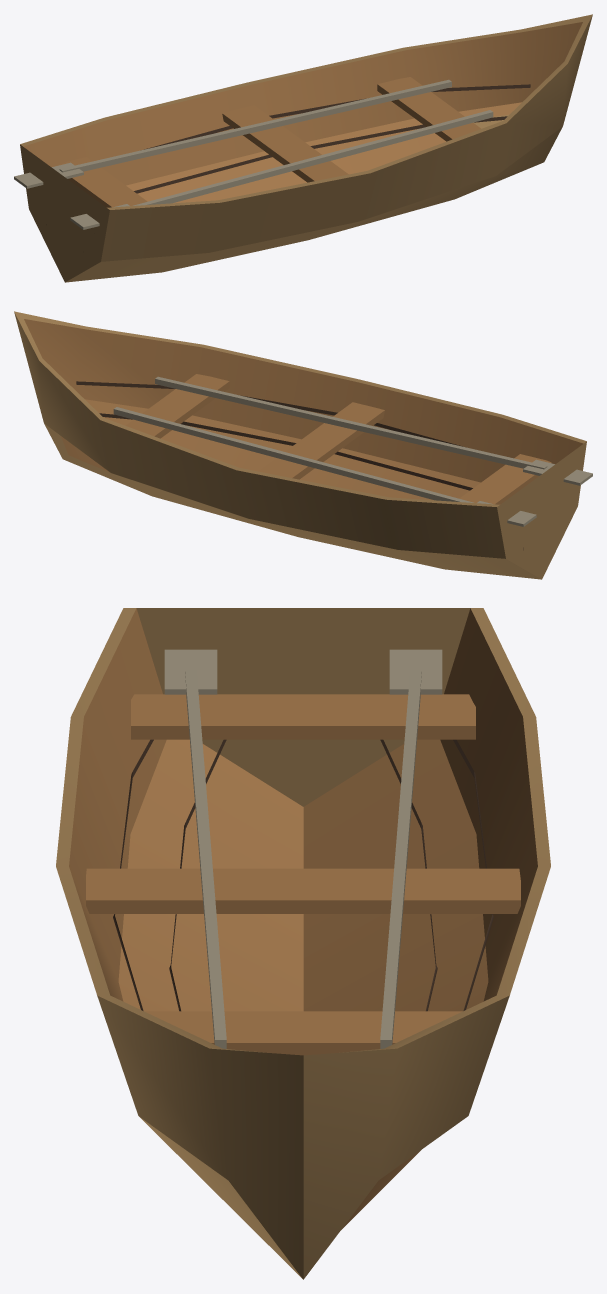
File: Rowboat.fbx
3 views of the same model, one above another, from view 1: azimuth 30°, elevation 25°; view 2: azimuth 150°, elevation 25°; view 3: azimuth 270°, elevation 25° (orthographic). The views are drawn at different scales.
Visible parts, largest first — view 1: Rowboat; view 2: Rowboat; view 3: Rowboat.
Boxes of the visible parts, bbox=[...] form: Rowboat: bbox=[14, 14, 592, 282]; Rowboat: bbox=[14, 311, 592, 579]; Rowboat: bbox=[56, 608, 550, 1279].
Bounding box in the file's own units: 3.35 × 0.92 × 1.32.
